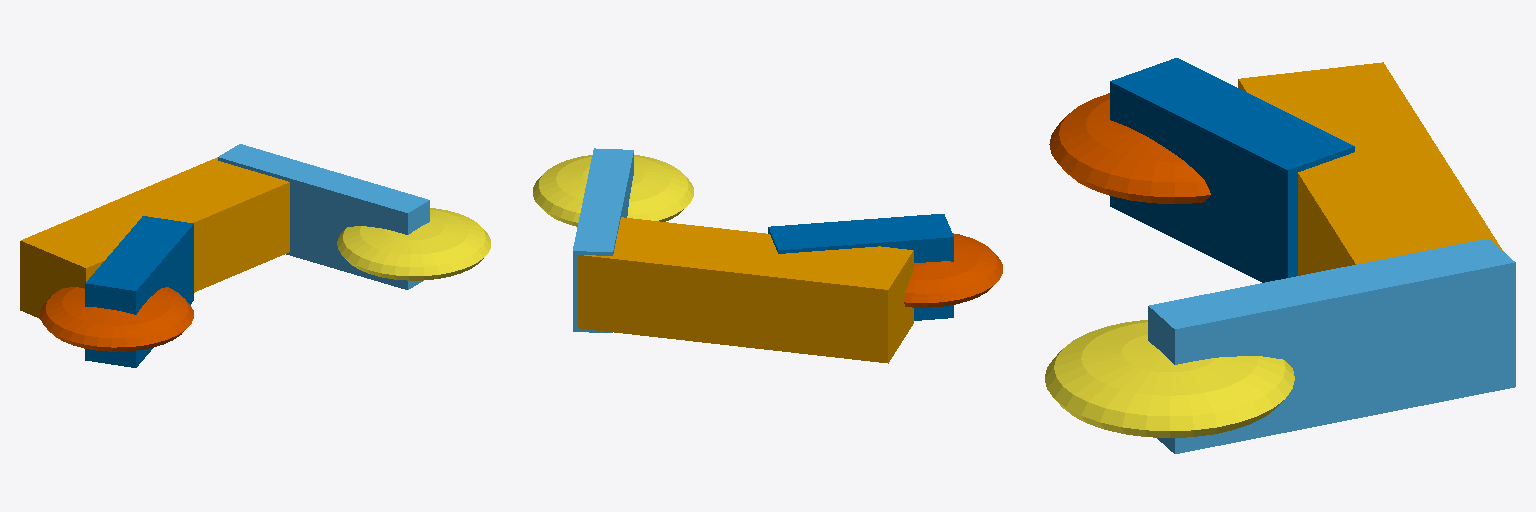
URDF robot description (sttw_source_contract):
<robot name="sttw_source_contract"><link name="chasis"><inertial><origin xyz="0 0 0" rpy="0 0 0" /><mass value="2.6709" /><inertia ixx="0.002576899237716139" iyy="0.006717399205490904" izz="0.007323301556792965" ixy="-0.0010382994717121627" ixz="-6.738700644442851e-05" iyz="-2.9357445489999094e-05" /></inertial><collision><origin xyz="0 0.01 0" rpy="0 -0 0.26200065305629355" /><geometry><box size="0.40000000000000002 0.12 0.10000000000000001" /></geometry></collision><visual><origin xyz="0 0.01 0" rpy="0 -0 0.26200065305629355" /><geometry><box size="0.40000000000000002 0.12 0.10000000000000001" /></geometry></visual></link><link name="frontfork"><inertial><origin xyz="0.015592999999999999 -0.028725000000000001 0" rpy="0 0 0" /><mass value="0.60059" /><inertia ixx="0.0006527803125101705" iyy="0.00031547968748982914" izz="0.0004482599999999998" ixy="3.1108087729306906e-06" ixz="0.0" iyz="0.0" /></inertial><collision><origin xyz="0.02 -0.059999999999999998 0" rpy="0 -0 0" /><geometry><box size="0.050000000000000003 0.29999999999999999 0.11" /></geometry></collision><visual><origin xyz="0.02 -0.059999999999999998 0" rpy="0 -0 0" /><geometry><box size="0.050000000000000003 0.29999999999999999 0.11" /></geometry></visual></link><joint name="steering_joint" type="revolute"><parent link="chasis" /><child link="frontfork" /><origin xyz="0.17705281966023048 0.020893999999999999 0" rpy="0 -0 0.43632916471688082" /><axis xyz="0 1 0" /><limit effort="1000" velocity="1000" lower="-0.8" upper="0.8" /><dynamics damping="0" friction="0" /></joint><link name="frontsuspension"><inertial><origin xyz="0 0.012836 0" rpy="0 0 0" /><mass value="0.13737" /><inertia ixx="6.8261e-05" iyy="6.1561e-05" izz="1.4167e-05" ixy="0.0" ixz="0.0" iyz="0.0" /></inertial><collision><origin xyz="0 0.02 0" rpy="0 -0 0" /><geometry><box size="0.029999999999999999 0.050000000000000003 0.10000000000000001" /></geometry></collision><visual><origin xyz="0 0.02 0" rpy="0 -0 0" /><geometry><box size="0.029999999999999999 0.050000000000000003 0.10000000000000001" /></geometry></visual></link><joint name="frontsuspension_fixed" type="fixed"><parent link="frontfork" /><child link="frontsuspension" /><origin xyz="0.02 -0.20268 0" rpy="0 -0 0" /></joint><link name="frontwheel"><inertial><origin xyz="0 0 0" rpy="0 0 0" /><mass value="0.47237" /><inertia ixx="0.0010678" iyy="0.0010677" izz="0.002032" ixy="0.0" ixz="0.0" iyz="0.0" /></inertial><collision><origin xyz="0 0 0" rpy="0 -0 0" /><geometry><mesh filename="ellipsoid_0.1_0.1_0.025.obj" /></geometry></collision><visual><origin xyz="0 0 0" rpy="0 -0 0" /><geometry><mesh filename="ellipsoid_0.1_0.1_0.025.obj" /></geometry></visual></link><joint name="frontwheel_joint" type="continuous"><parent link="frontsuspension" /><child link="frontwheel" /><origin xyz="0 0 0" rpy="0 0 -0.43632916471688082" /><axis xyz="0 0 1" /><limit effort="1000" velocity="1000" /><dynamics damping="0" friction="0" /></joint><link name="rearsuspension"><inertial><origin xyz="-0.11047 -0.091964000000000004 0" rpy="0 0 0" /><mass value="0.83342" /><inertia ixx="0.000932891239514924" iyy="0.001050602340954752" izz="0.001595099419530325" ixy="-0.0005954418866728583" ixz="4.176125784751369e-07" iyz="3.218152647424885e-07" /></inertial><collision><origin xyz="-0.080000000000000002 -0.070000000000000007 0" rpy="0 -0 0.7000001648141263" /><geometry><box size="0.22 0.070000000000000007 0.11" /></geometry></collision><visual><origin xyz="-0.080000000000000002 -0.070000000000000007 0" rpy="0 -0 0.7000001648141263" /><geometry><box size="0.22 0.070000000000000007 0.11" /></geometry></visual></link><joint name="rearsuspension_joint" type="revolute"><parent link="chasis" /><child link="rearsuspension" /><origin xyz="-0.020438000000000001 -0.034414 0" rpy="0 -0 0" /><axis xyz="0 0 1" /><limit effort="1000" velocity="1000" lower="-0.05" upper="0.05" /><dynamics damping="0" friction="0" /></joint><link name="rearwheel"><inertial><origin xyz="0 0 0" rpy="0 0 0" /><mass value="0.71956" /><inertia ixx="0.0011423999999999996" iyy="0.0011425999999999995" izz="0.002173799999999999" ixy="0.0" ixz="0.0" iyz="0.0" /></inertial><collision><origin xyz="0 0 0" rpy="0 -0 0" /><geometry><mesh filename="ellipsoid_0.1_0.1_0.025.obj" /></geometry></collision><visual><origin xyz="0 0 0" rpy="0 -0 0" /><geometry><mesh filename="ellipsoid_0.1_0.1_0.025.obj" /></geometry></visual></link><joint name="rearwheel_joint" type="continuous"><parent link="rearsuspension" /><child link="rearwheel" /><origin xyz="-0.14050000000000001 -0.11609 0" rpy="0 -0 0" /><axis xyz="0 0 1" /><limit effort="1000" velocity="1000" /><dynamics damping="0" friction="0" /></joint></robot>

--- Render facts (derived) ---
The picture shows the robot from 3 angles, left to right: view 1: azimuth 30°, elevation 25°; view 2: azimuth 150°, elevation 25°; view 3: azimuth 270°, elevation 25°; orthographic projection.
Model sttw_source_contract with 6 links and 5 joints (2 revolute, 2 continuous, 1 fixed), rooted at chasis, posed every joint at zero.
Visible links, largest first — view 1: chasis, frontfork, rearsuspension, frontwheel, rearwheel; view 2: chasis, rearsuspension, frontwheel, frontfork, rearwheel; view 3: frontfork, rearsuspension, chasis, frontwheel, rearwheel.
Link boxes in pixels (x1=…): chasis: x1=20, y1=157, x2=289, y2=318; frontfork: x1=218, y1=144, x2=429, y2=289; rearsuspension: x1=85, y1=216, x2=193, y2=367; frontwheel: x1=337, y1=208, x2=490, y2=280; rearwheel: x1=40, y1=287, x2=193, y2=351; chasis: x1=578, y1=217, x2=913, y2=363; rearsuspension: x1=768, y1=214, x2=953, y2=320; frontwheel: x1=533, y1=155, x2=693, y2=226; frontfork: x1=573, y1=148, x2=633, y2=332; rearwheel: x1=904, y1=233, x2=1002, y2=307; frontfork: x1=1148, y1=239, x2=1515, y2=453; rearsuspension: x1=1110, y1=58, x2=1354, y2=282; chasis: x1=1238, y1=62, x2=1503, y2=275; frontwheel: x1=1045, y1=320, x2=1294, y2=437; rearwheel: x1=1049, y1=93, x2=1210, y2=203.
Size in the robot's own frame: 0.6418 by 0.3758 by 0.11 metres.
2 mesh visuals loaded from 1 distinct referenced files (1 OBJ).
